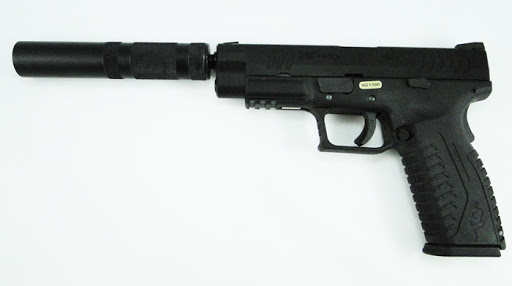gun: (6, 31, 512, 266)
